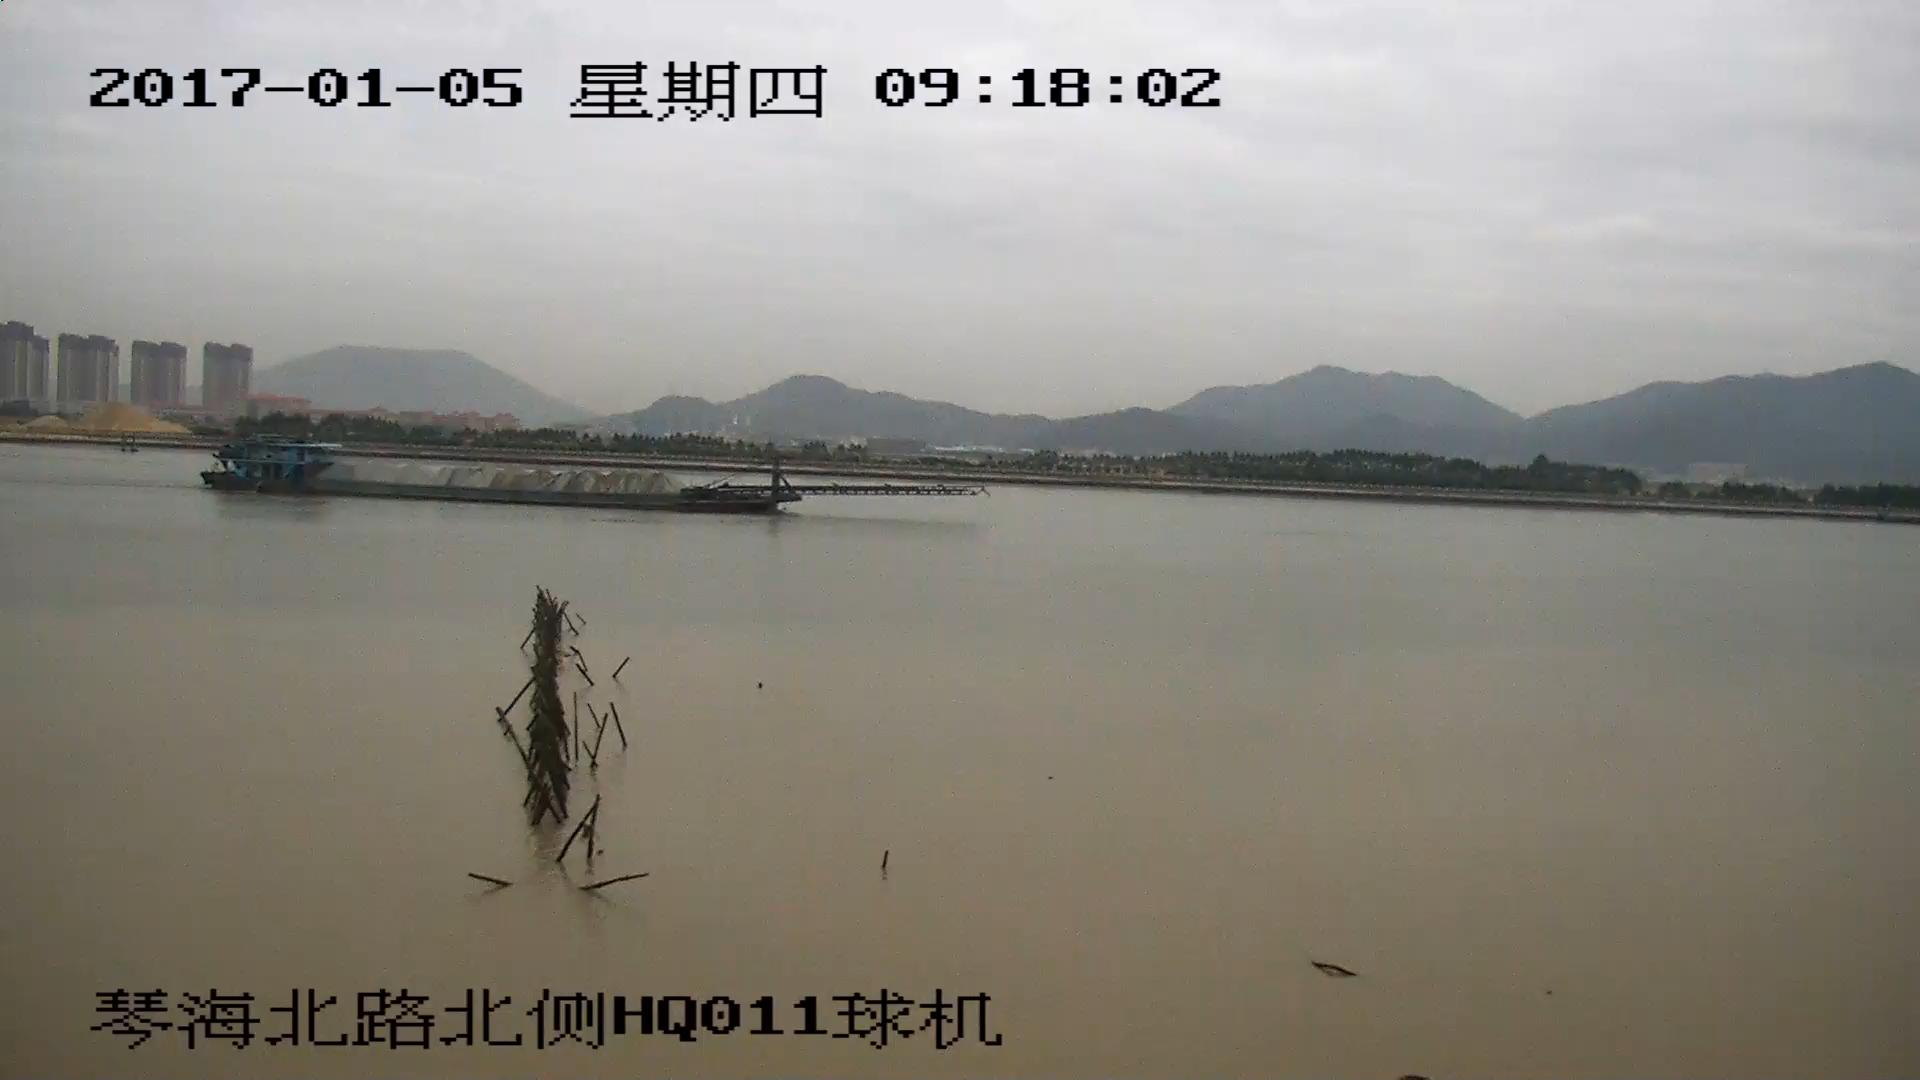ore carrier: (206, 436, 964, 514)
